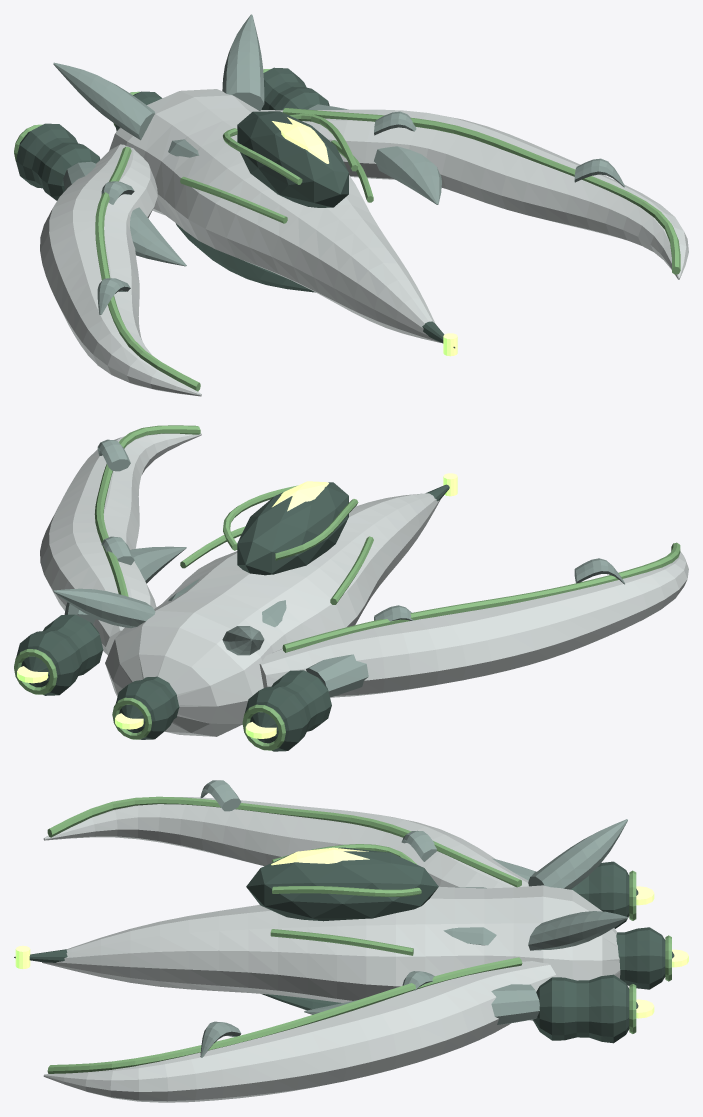
The model's file is SL_PHANTOM_LOD.glb.
3 views of the same model, one above another, from view 1: azimuth 30°, elevation 25°; view 2: azimuth 150°, elevation 25°; view 3: azimuth 270°, elevation 25° (orthographic).
Visible parts, largest first — view 1: armor, dark, plate, accent, energy; view 2: armor, dark, accent, plate, energy; view 3: armor, dark, accent, plate, energy.
Part boxes in pixels (x1,y1,x2,y2): armor: (40,89,688,396); dark: (16,67,455,348); plate: (53,14,624,314); accent: (14,69,680,391); energy: (272,117,457,356); armor: (40,433,688,736); dark: (16,482,449,751); accent: (14,425,680,750); plate: (53,439,624,697); energy: (17,473,457,738); armor: (42,797,620,1102); dark: (14,847,674,1043); accent: (47,796,671,1073); plate: (200,780,627,1057); energy: (15,847,688,1018).
Size of the model in its own units: 5.98 by 1.68 by 6.02.
